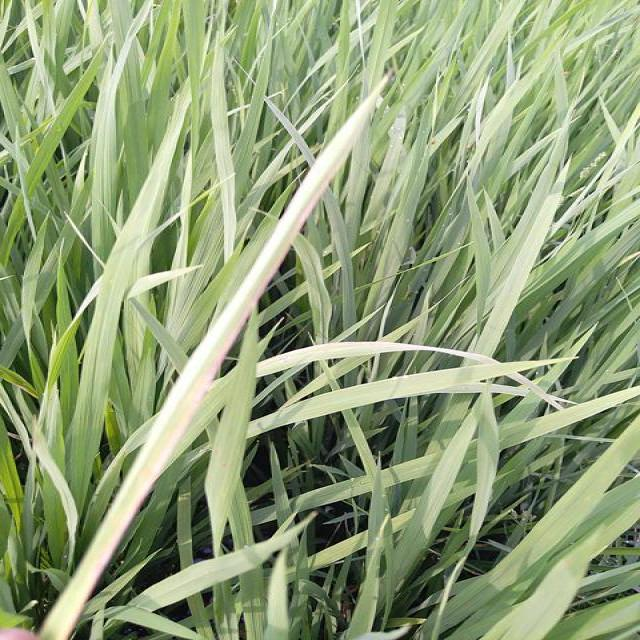Leaf Blight: (33, 72, 392, 639)
